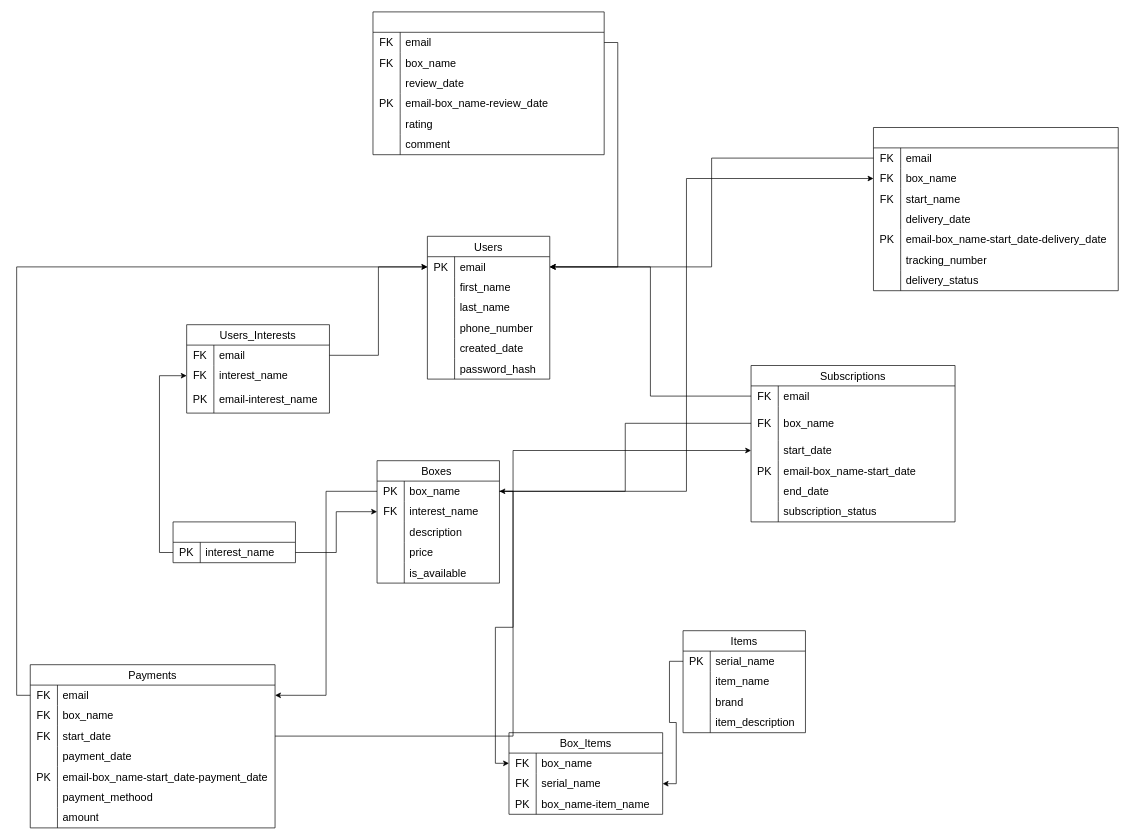
Image size: 1130x840. Some labels were removed from this diagram. Each missing label, with the box of its shape:
Delivers: (873, 127, 1118, 291)
Interests: (172, 521, 295, 563)
Reviews: (372, 11, 604, 155)
